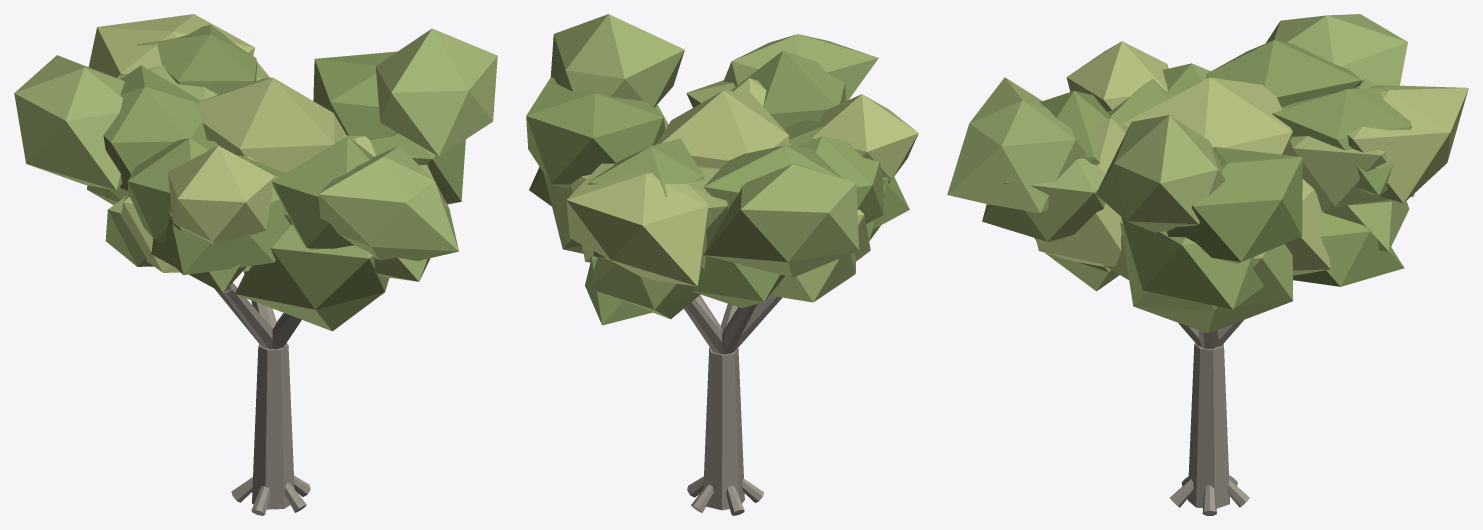
Rendered from FremontCottonwood.glb.
3 renders of one model, left to right at view 1: azimuth 30°, elevation 25°; view 2: azimuth 150°, elevation 25°; view 3: azimuth 270°, elevation 25°, orthographic. The views are drawn at different scales.
Visible parts, largest first — view 1: Cottonwood crown.004, Cottonwood crown.024, Cottonwood crown.014, Cottonwood crown.020, Cottonwood crown.025, Cottonwood crown.019, Cottonwood crown.013, Limb.019, Cottonwood crown.023, Cottonwood crown.003, Cottonwood crown.008, Cottonwood crown.016 (+10 smaller); view 2: Cottonwood crown.014, Cottonwood crown.009, Cottonwood crown.003, Cottonwood crown.004, Cottonwood crown.025, Limb.019, Cottonwood crown.023, Cottonwood crown.019, Cottonwood crown.024, Cottonwood crown.006, Cottonwood crown.013, Cottonwood crown.018 (+13 smaller); view 3: Cottonwood crown.024, Cottonwood crown.004, Cottonwood crown.003, Cottonwood crown.009, Cottonwood crown.025, Cottonwood crown.002, Cottonwood crown.014, Limb.019, Cottonwood crown.001, Cottonwood crown.008, Cottonwood crown.013, Cottonwood crown.022 (+10 smaller).
Part boxes in pixels (left/top/right/bottom): Cottonwood crown.004: left=375, top=28, right=497, bottom=156; Cottonwood crown.024: left=318, top=146, right=458, bottom=260; Cottonwood crown.014: left=14, top=55, right=124, bottom=190; Cottonwood crown.020: left=234, top=224, right=389, bottom=331; Cottonwood crown.025: left=195, top=77, right=346, bottom=173; Cottonwood crown.019: left=168, top=145, right=274, bottom=244; Cottonwood crown.013: left=103, top=65, right=206, bottom=199; Limb.019: left=252, top=343, right=294, bottom=509; Cottonwood crown.023: left=272, top=136, right=373, bottom=249; Cottonwood crown.003: left=313, top=51, right=398, bottom=139; Cottonwood crown.008: left=137, top=24, right=256, bottom=94; Cottonwood crown.016: left=153, top=155, right=290, bottom=275; Cottonwood crown.014: left=704, top=164, right=859, bottom=277; Cottonwood crown.009: left=566, top=163, right=708, bottom=286; Cottonwood crown.003: left=526, top=77, right=665, bottom=187; Cottonwood crown.004: left=550, top=14, right=684, bottom=108; Cottonwood crown.025: left=656, top=90, right=789, bottom=168; Limb.019: left=703, top=347, right=744, bottom=510; Cottonwood crown.023: left=730, top=50, right=846, bottom=129; Cottonwood crown.019: left=811, top=94, right=918, bottom=180; Cottonwood crown.024: left=723, top=34, right=878, bottom=100; Cottonwood crown.006: left=589, top=255, right=705, bottom=319; Cottonwood crown.013: left=704, top=145, right=841, bottom=207; Cottonwood crown.018: left=797, top=136, right=883, bottom=223; Cottonwood crown.024: left=947, top=77, right=1086, bottom=213; Cottonwood crown.004: left=1096, top=115, right=1225, bottom=232; Cottonwood crown.003: left=1167, top=147, right=1302, bottom=263; Cottonwood crown.009: left=1347, top=85, right=1468, bottom=203; Cottonwood crown.025: left=1121, top=77, right=1292, bottom=155; Cottonwood crown.002: left=1121, top=217, right=1264, bottom=309; Cottonwood crown.014: left=1265, top=14, right=1407, bottom=85; Limb.019: left=1187, top=343, right=1229, bottom=508; Cottonwood crown.001: left=1120, top=221, right=1293, bottom=333; Cottonwood crown.008: left=1272, top=87, right=1411, bottom=195; Cottonwood crown.013: left=1205, top=40, right=1361, bottom=107; Cottonwood crown.022: left=982, top=158, right=1105, bottom=242.
Bounding box in the file's own units: 8.58 × 9.5 × 9.87.
